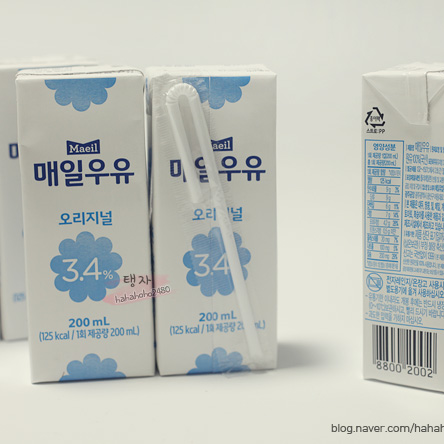milk: (1, 58, 278, 385), (360, 61, 444, 393)
